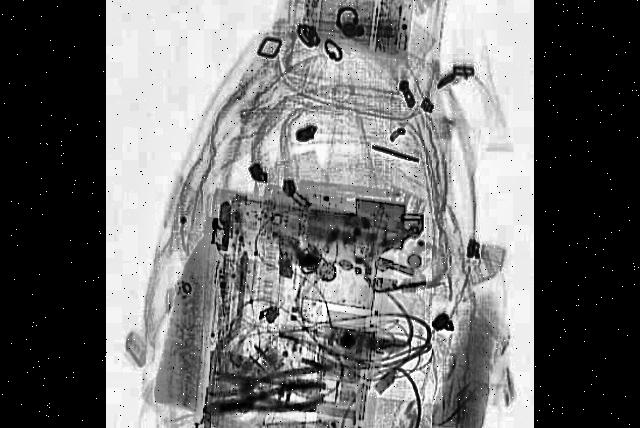Pliers: (201, 378, 325, 426)
